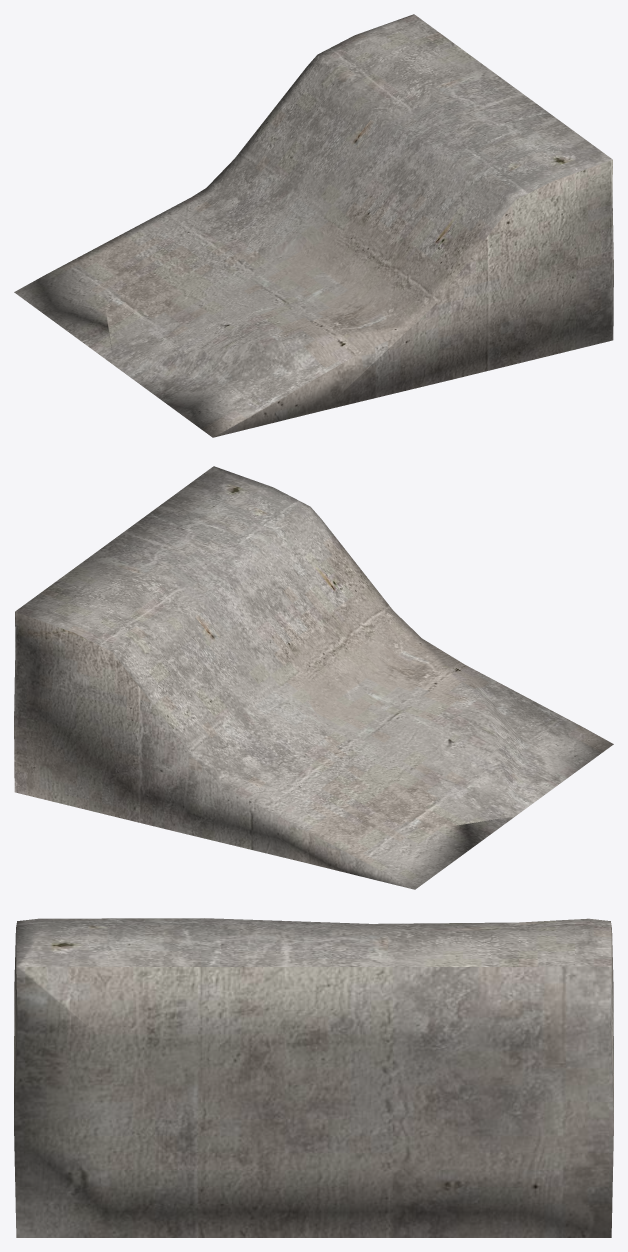
The model's file is bump.glb.
The picture shows the model from 3 angles, top to bottom: view 1: azimuth 30°, elevation 25°; view 2: azimuth 150°, elevation 25°; view 3: azimuth 270°, elevation 25°; orthographic projection. The views are drawn at different scales.
Parts seen in each view (by area): view 1: Cube; view 2: Cube; view 3: Cube.
Boxes of the visible parts, bbox=[...] form: Cube: bbox=[14, 14, 613, 437]; Cube: bbox=[14, 466, 613, 889]; Cube: bbox=[14, 918, 613, 1237].
Bounding box in the file's own units: 2.38 × 1.12 × 2.06.
1 material, 1 textured.
